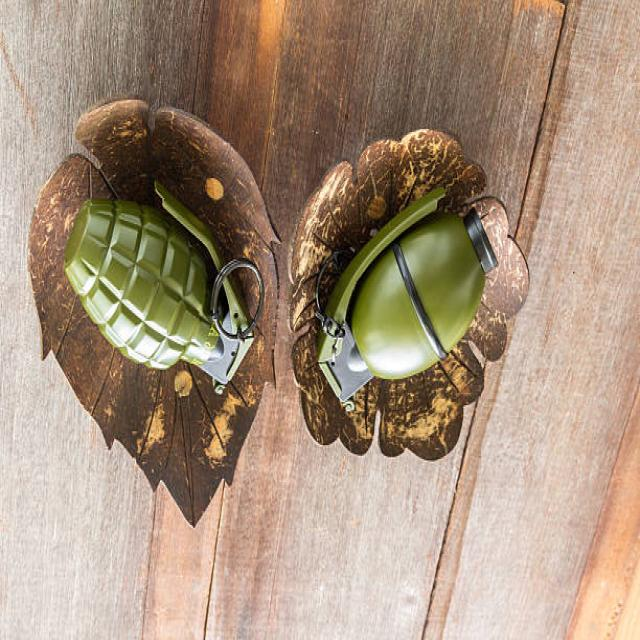grenade: (312, 179, 502, 422), (57, 179, 270, 394)
